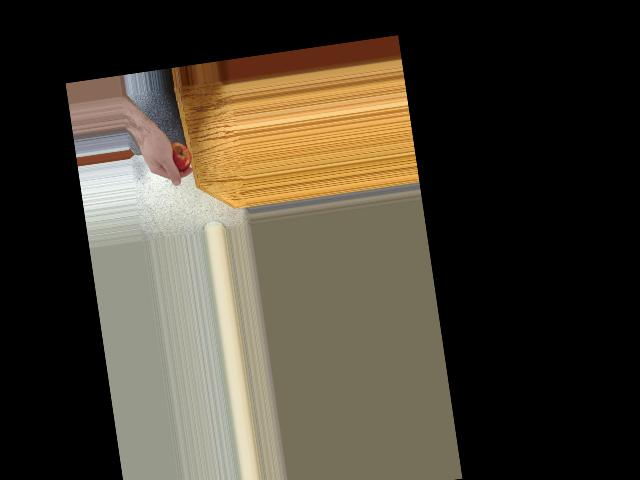apple: (164, 139, 194, 174)
